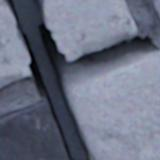brick: (77, 51, 159, 159), (0, 99, 67, 159), (152, 0, 159, 18)
broken_brick: (43, 0, 136, 59), (0, 0, 30, 86)
crack: (2, 0, 159, 159)
